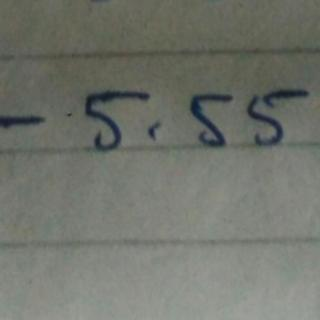.: (144, 122, 163, 143)
5: (84, 89, 150, 153), (250, 89, 306, 149), (189, 92, 230, 146)
